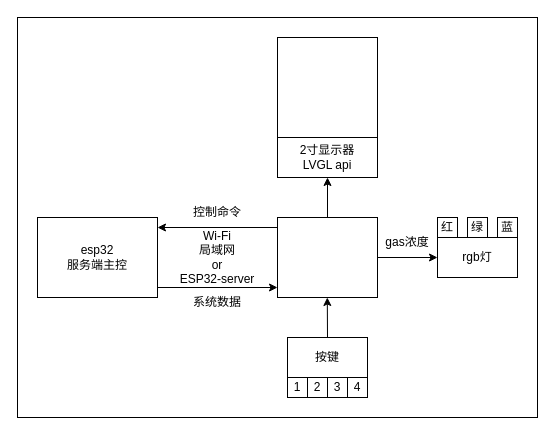
This 555x435 diagram has some shape labels left out. Here are the shapes that lost their labels. From the top down, the box of each, then its label:
(276, 36, 378, 138): 系统时间 温度 湿度 亮度 gas读数
(276, 216, 378, 298): esp32 客户端主控
